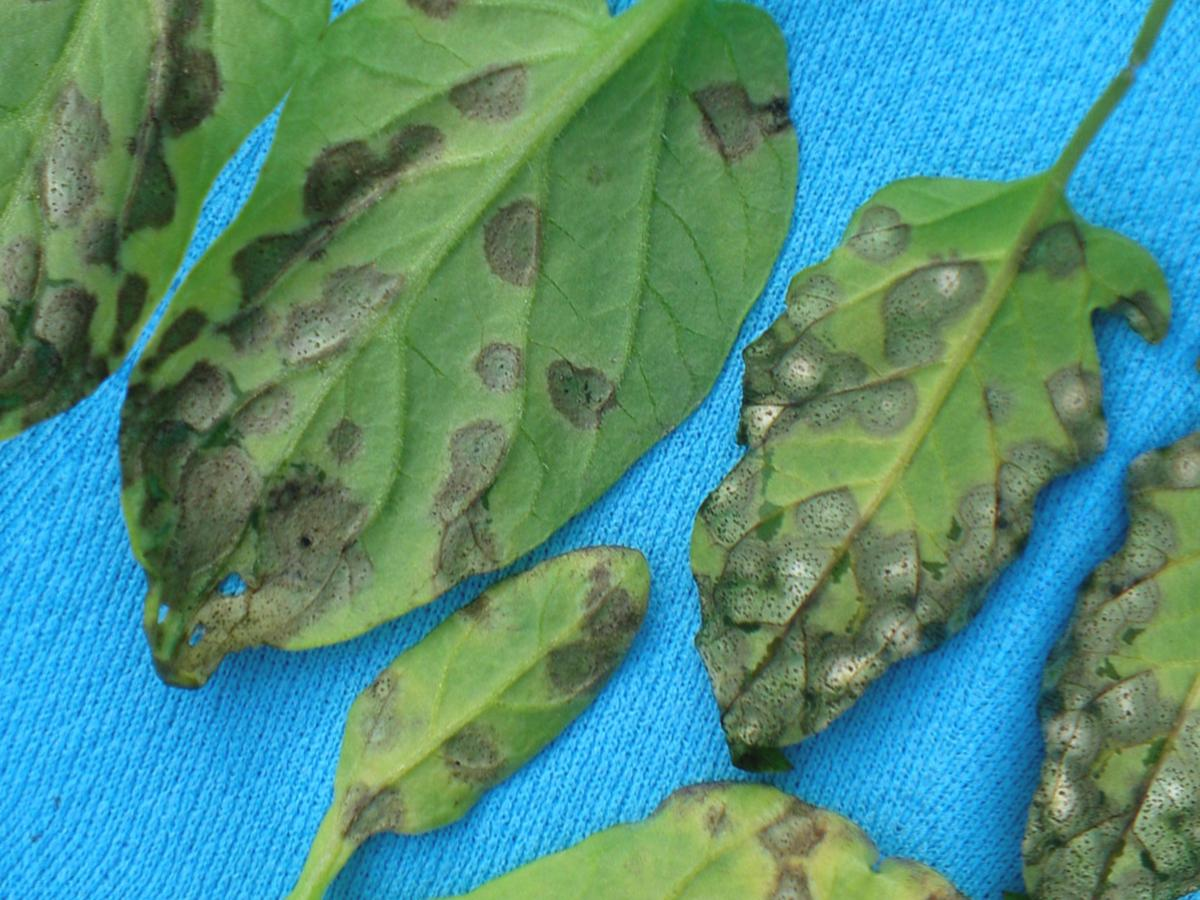Tomato Septoria leaf spot: (2, 0, 912, 863), (547, 0, 1200, 870), (284, 451, 688, 900), (412, 666, 883, 900)
